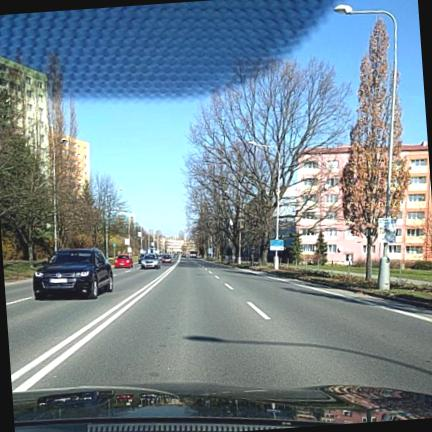Road: (5, 259, 431, 393)
